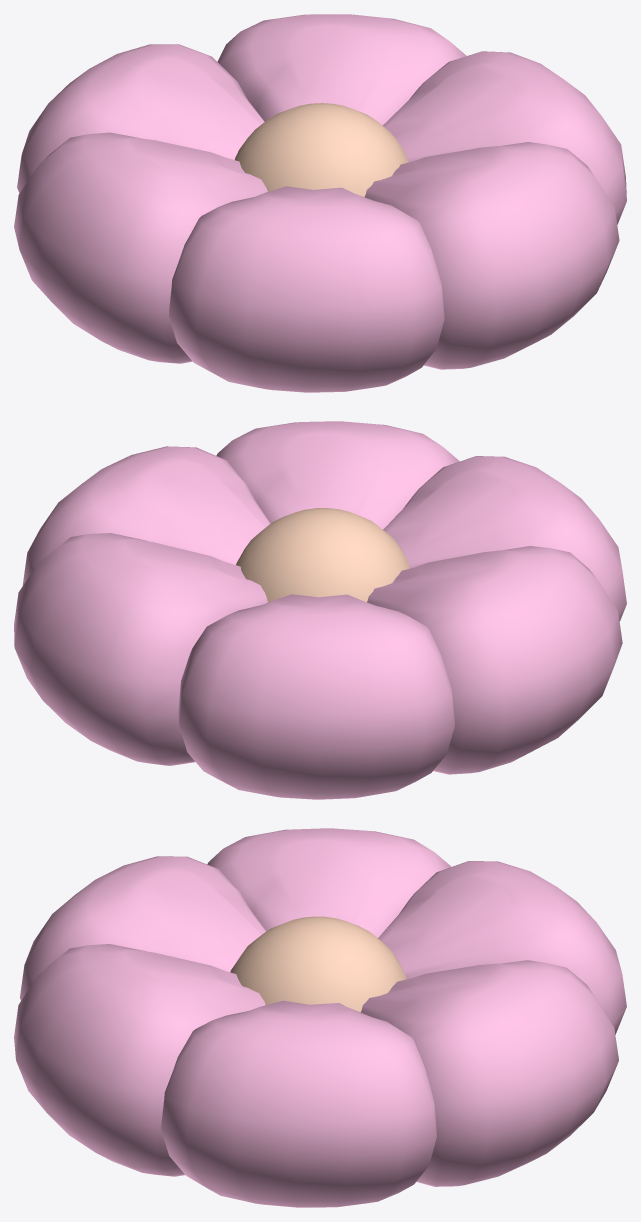
The model's file is TyynyKukka.fbx.
3 views of the same model, one above another, from view 1: azimuth 30°, elevation 25°; view 2: azimuth 150°, elevation 25°; view 3: azimuth 270°, elevation 25° (orthographic).
Parts seen in each view (by area): view 1: Plane; view 2: Plane; view 3: Plane.
Part boxes in pixels (bbox=[...]): Plane: bbox=[14, 14, 626, 392]; Plane: bbox=[14, 421, 626, 799]; Plane: bbox=[14, 828, 626, 1207].
Bounding box in the file's own units: 1.19 × 0.3793 × 1.15.
